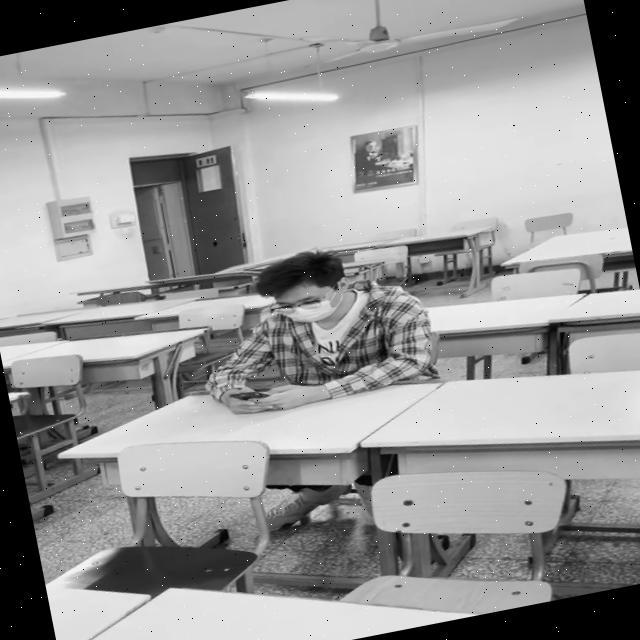phone: (186, 237, 441, 423)
